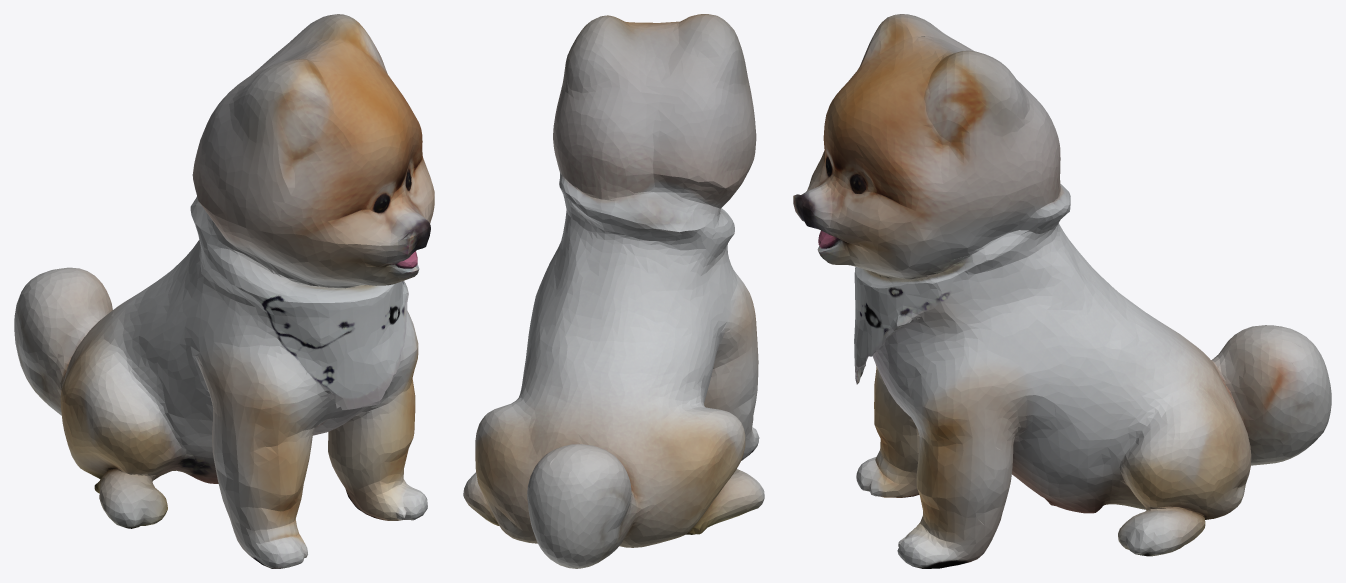
The picture shows the model from 3 angles, left to right: view 1: azimuth 30°, elevation 25°; view 2: azimuth 150°, elevation 25°; view 3: azimuth 270°, elevation 25°; orthographic projection. The views are drawn at different scales.
Parts seen in each view (by area): view 1: world; view 2: world; view 3: world.
Boxes of the visible parts, x1,y1,x2,y2 form: world: (14, 14, 434, 568); world: (463, 14, 764, 568); world: (793, 14, 1331, 568).
Size of the model in its own units: 0.578 by 0.994 by 0.9902.
1 material, 1 textured.
